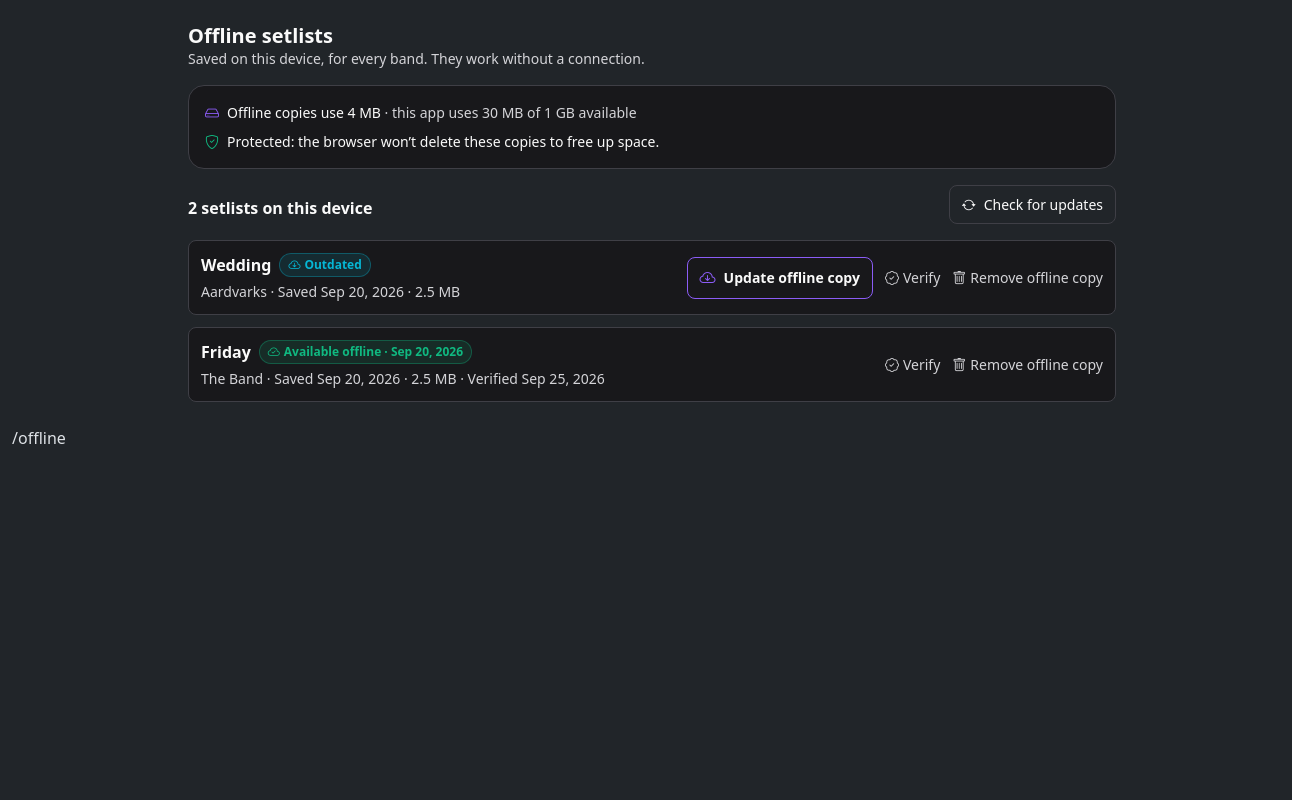
Scenario: Offline setlists (/offline) › F2: a failed verify names how many PDFs are missing
Expected: the number of list items with test id "offline-manager-row" is 2, left=188, top=240, right=1116, bottom=315; left=188, top=327, right=1116, bottom=402
Click the button "Verify" in the row of "Friday".
click(913, 364)  # box left=885, top=344, right=940, bottom=384
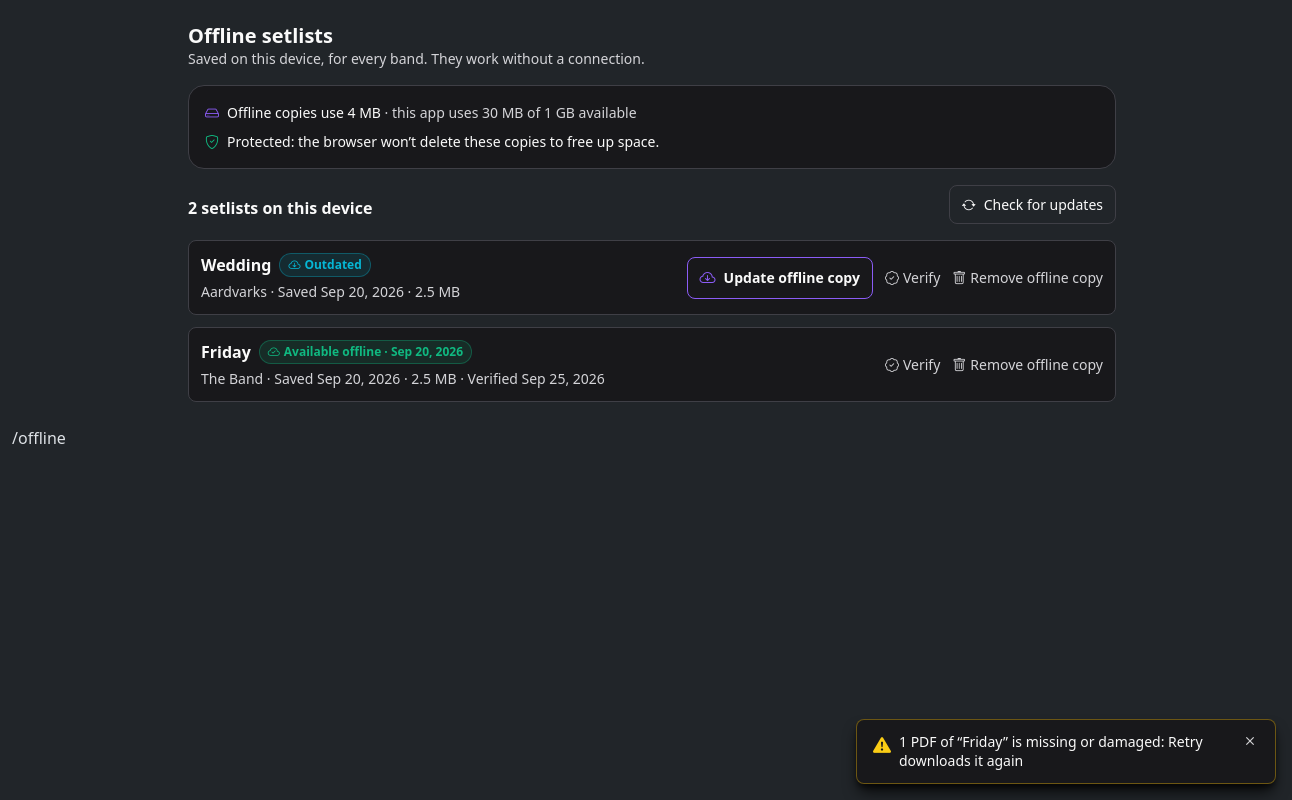
Expected: the text "1 PDF of “Friday” is missing or damaged" is shown, left=899, top=732, right=1203, bottom=770
